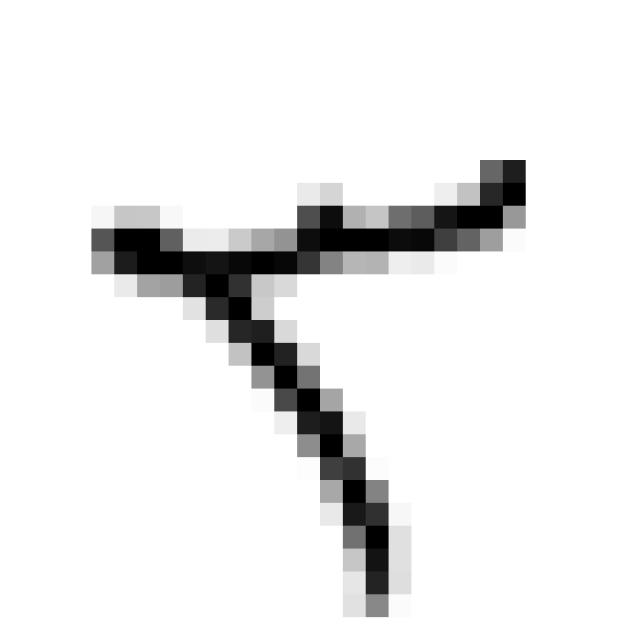3 -three-: (71, 137, 544, 628)
